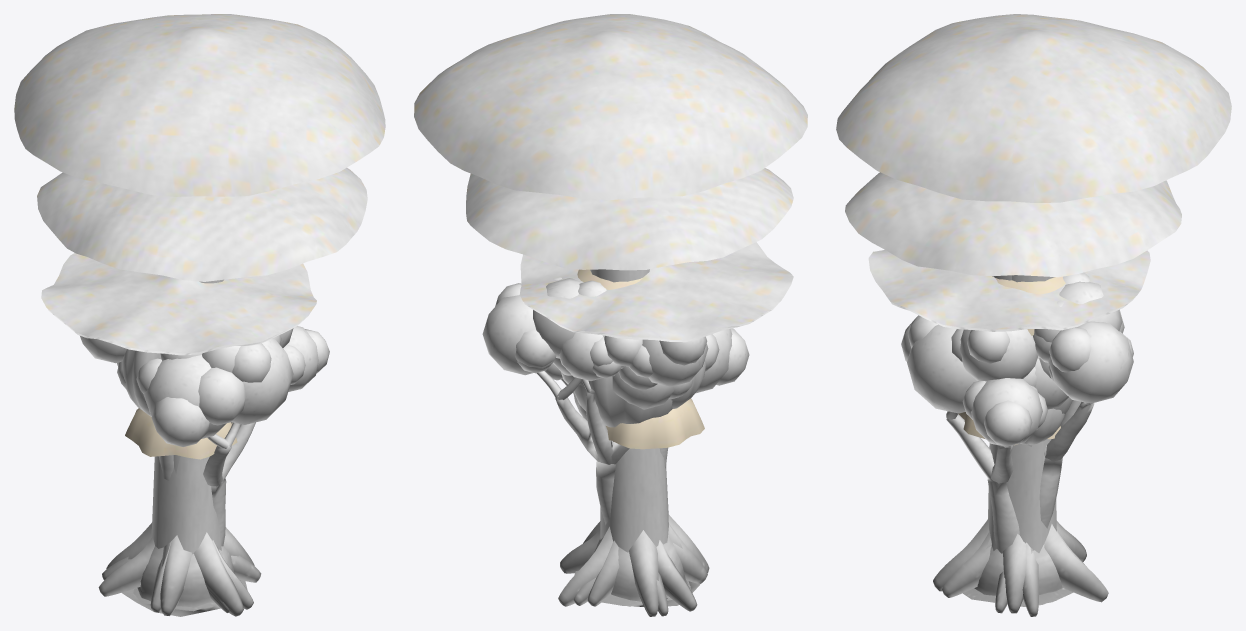
The model's file is flora.glb.
The picture shows the model from 3 angles, left to right: view 1: azimuth 30°, elevation 25°; view 2: azimuth 150°, elevation 25°; view 3: azimuth 270°, elevation 25°; orthographic projection. The views are drawn at different scales.
Visible parts, largest first — view 1: Parasol_C, Parasol_A, Parasol_B, Coral_A, Lantern_A, Lantern_B, Coral_B; view 2: Parasol_C, Parasol_A, Parasol_B, Coral_B, Coral_A, Lantern_A, Lantern_B; view 3: Parasol_C, Parasol_A, Coral_B, Coral_A, Parasol_B, Lantern_A, Lantern_B.
Part boxes in pixels (<box>): Parasol_C: <box>14,14,385,616</box>; Parasol_A: <box>37,168,367,612</box>; Parasol_B: <box>41,253,316,612</box>; Coral_A: <box>117,326,329,546</box>; Lantern_A: <box>137,422,234,611</box>; Lantern_B: <box>122,349,173,480</box>; Coral_B: <box>80,328,293,363</box>; Parasol_C: <box>414,14,807,616</box>; Parasol_A: <box>466,168,793,611</box>; Parasol_B: <box>519,242,793,616</box>; Coral_B: <box>482,277,708,524</box>; Coral_A: <box>545,328,749,409</box>; Lantern_A: <box>573,376,690,601</box>; Lantern_B: <box>573,359,705,468</box>; Parasol_C: <box>836,14,1231,613</box>; Parasol_A: <box>845,172,1181,616</box>; Coral_B: <box>951,272,1133,528</box>; Coral_A: <box>901,315,1068,553</box>; Parasol_B: <box>868,249,1150,613</box>; Lantern_A: <box>974,356,1072,605</box>; Lantern_B: <box>1020,408,1064,446</box>.
Size of the model in its own units: 15.4 by 24.27 by 15.4.
2 materials, 1 textured.
